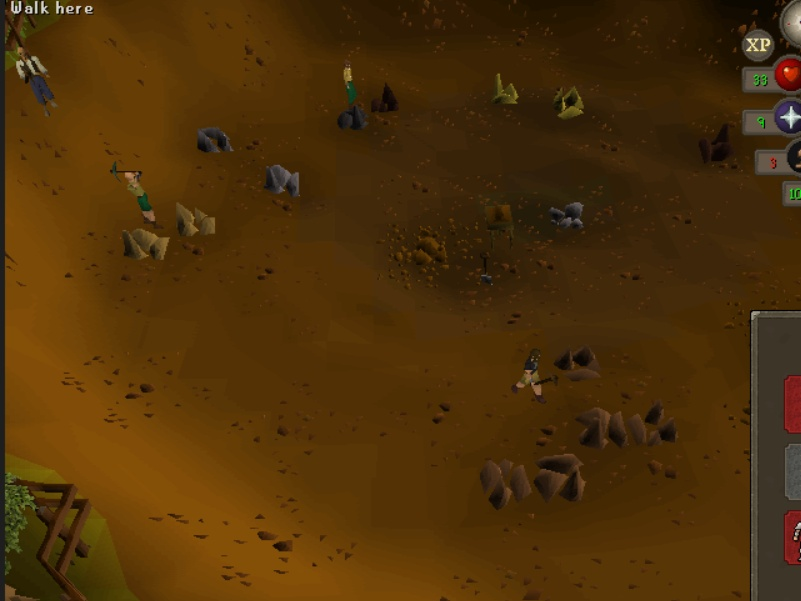clay: (120, 220, 174, 266), (169, 195, 223, 241)
copper: (478, 453, 535, 526), (533, 442, 590, 515), (625, 396, 686, 454), (575, 402, 626, 453), (552, 336, 603, 387)
gold: (489, 67, 524, 111), (551, 80, 586, 124)
iron: (693, 118, 740, 170), (371, 78, 404, 115)
tin: (191, 121, 238, 160), (259, 159, 306, 198)
